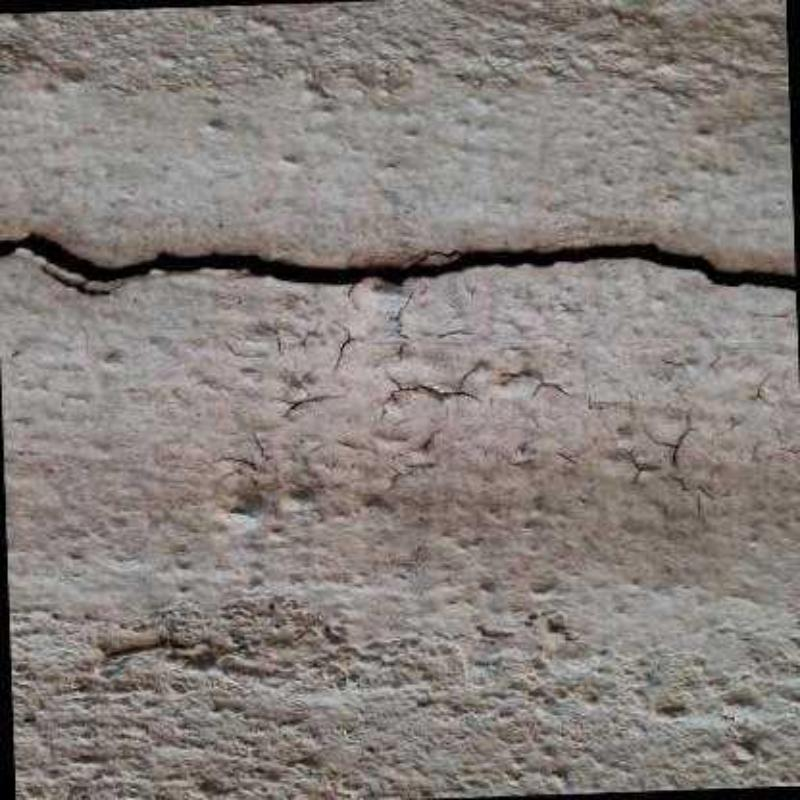crack: (0, 230, 796, 293), (36, 264, 110, 297)
